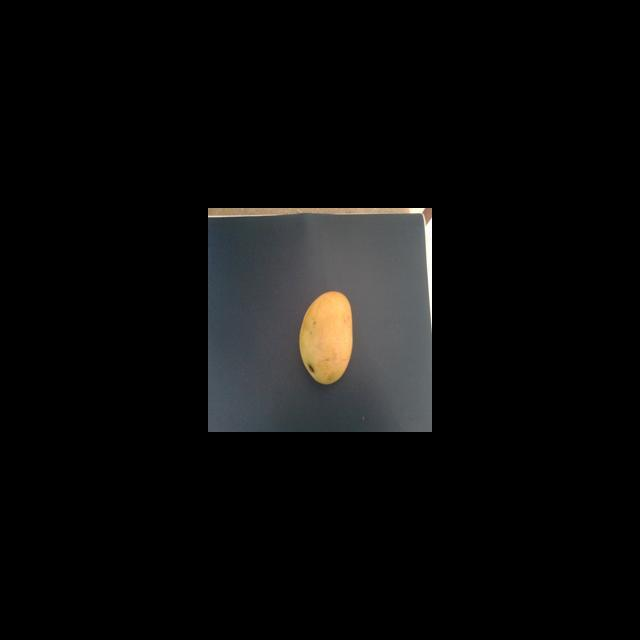Mango: (298, 290, 353, 385)
